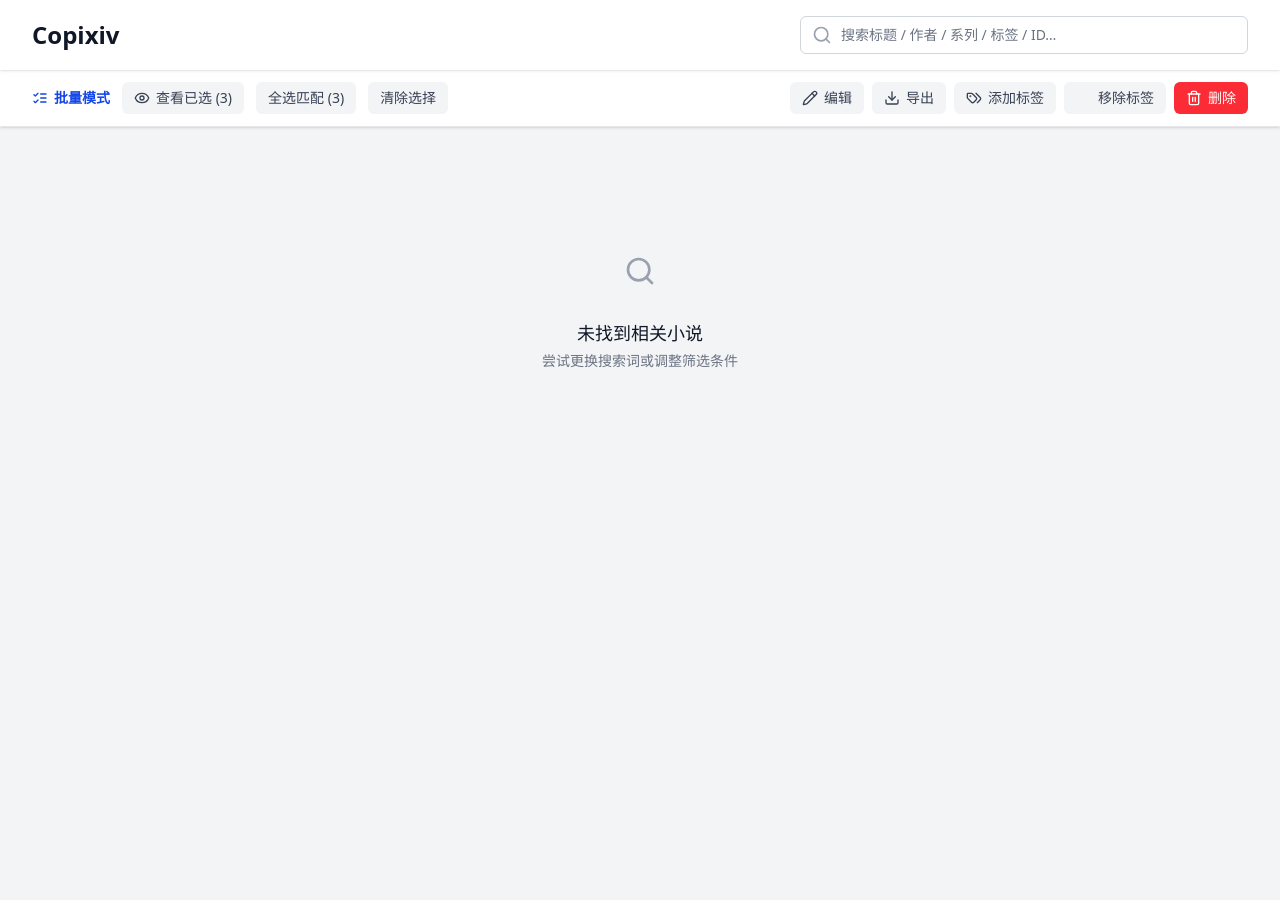
Scenario: 列表页批量编辑接线 › 点「编辑」打开弹窗，并立即按 apply:false 预演
Click the button with test id "batch-edit".
click(827, 98)  # box top-left (790, 82), bottom-right (864, 114)
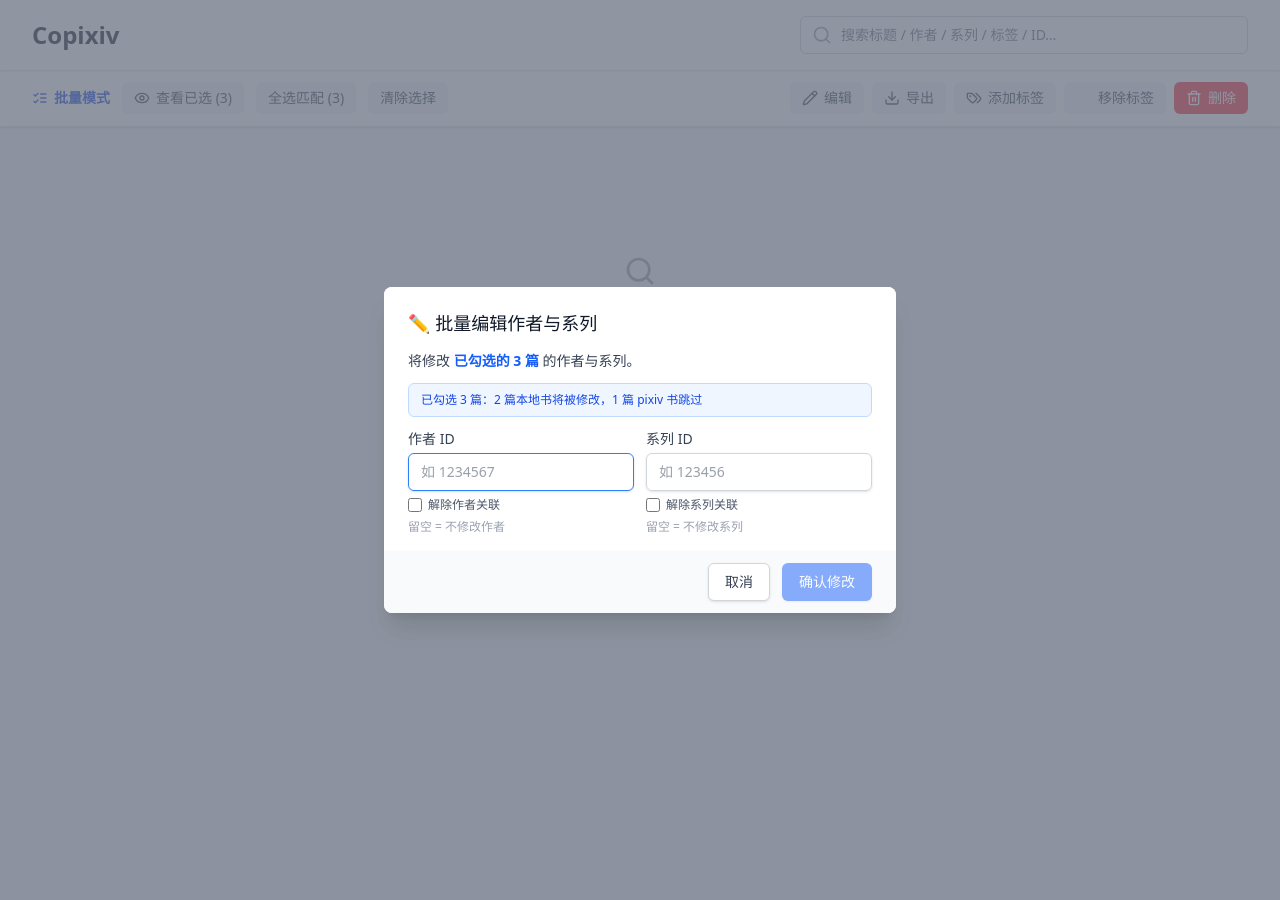
expect the element with test id "batch-edit-modal" is shown: met, box top-left (408, 351), bottom-right (872, 535)
expect the text with test id "batch-edit-preview" shows "1 篇 pixiv 书跳过": met, box top-left (421, 391), bottom-right (702, 408)
